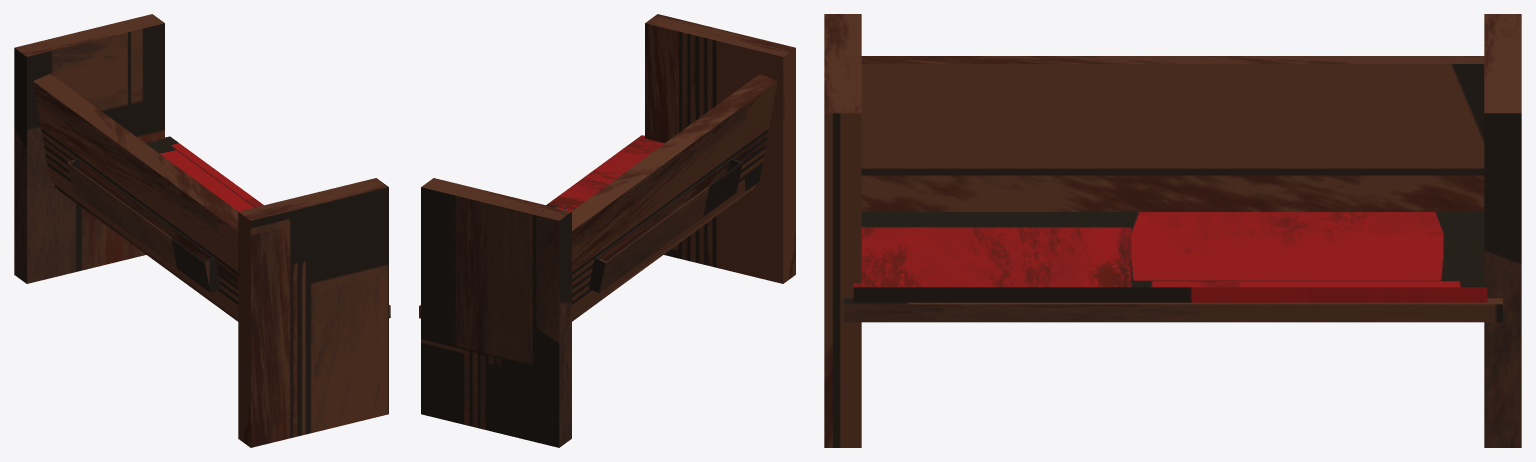
File: pew.obj
The picture shows the model from 3 angles, left to right: view 1: azimuth 30°, elevation 25°; view 2: azimuth 150°, elevation 25°; view 3: azimuth 270°, elevation 25°; orthographic projection. The views are drawn at different scales.
Parts seen in each view (by area): view 1: pCube8; view 2: pCube8; view 3: pCube8.
Boxes of the visible parts, x1=… form: pCube8: x1=14, y1=14, x2=390, y2=447; pCube8: x1=419, y1=14, x2=795, y2=447; pCube8: x1=824, y1=14, x2=1521, y2=447.
Size of the model in its own units: 4.74 by 7.02 by 13.26.
